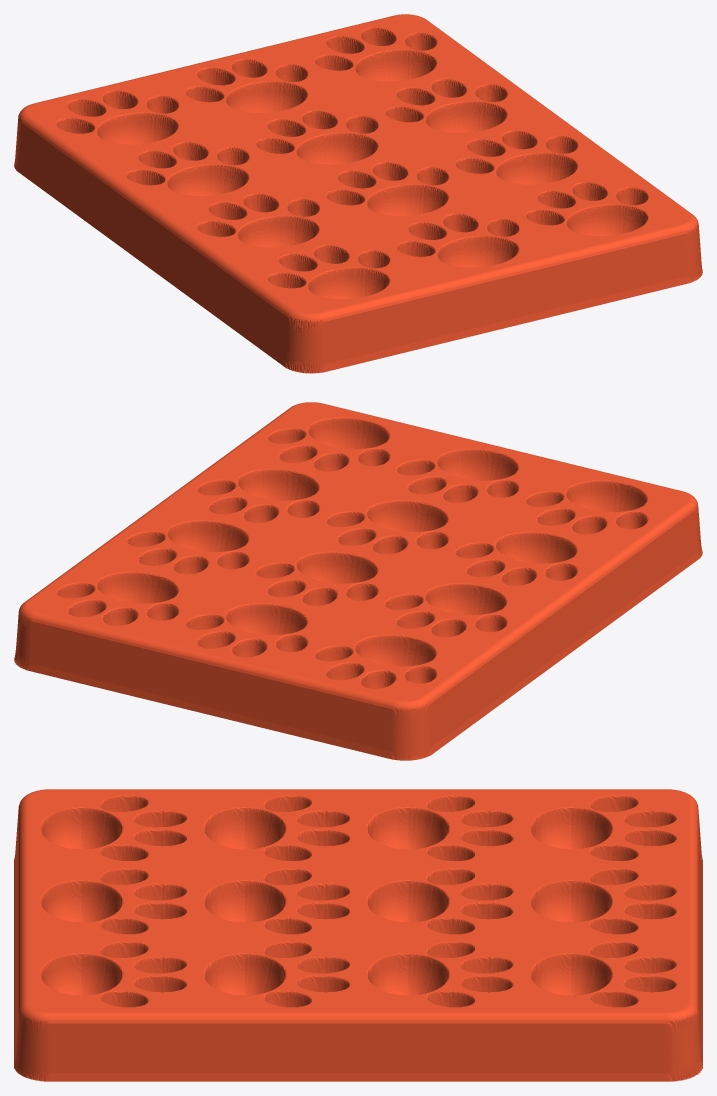
Rendered from mold.glb.
The picture shows the model from 3 angles, top to bottom: view 1: azimuth 30°, elevation 25°; view 2: azimuth 150°, elevation 25°; view 3: azimuth 270°, elevation 25°; orthographic projection. The views are drawn at different scales.
Visible parts, largest first — view 1: geometry_0; view 2: geometry_0; view 3: geometry_0.
Boxes of the visible parts, x1,y1,x2,y2 form: geometry_0: (14,14,702,373); geometry_0: (14,402,702,760); geometry_0: (14,789,702,1081).
Size of the model in its own units: 0.1389 by 0.0175 by 0.1726.
